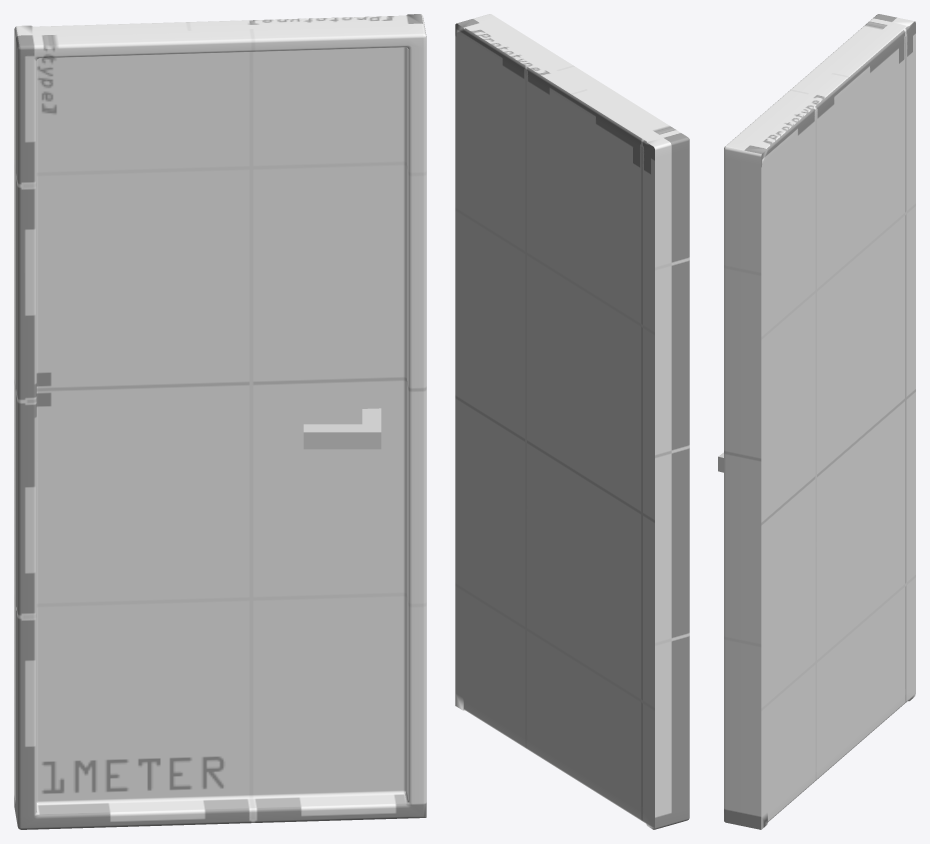
Rendered from DOOR.fbx.
3 renders of one model, left to right at view 1: azimuth 30°, elevation 25°; view 2: azimuth 150°, elevation 25°; view 3: azimuth 270°, elevation 25°, orthographic. The views are drawn at different scales.
Parts seen in each view (by area): view 1: Door, pCube6; view 2: Door; view 3: Door.
Part boxes in pixels (left/top/right/bottom): Door: left=14, top=14, right=426, bottom=829; pCube6: left=303, top=408, right=381, bottom=449; Door: left=455, top=14, right=689, bottom=829; Door: left=724, top=14, right=915, bottom=829.
Size of the model in its own units: 4.27 by 9.5 by 2.52.
2 materials, 1 textured.
